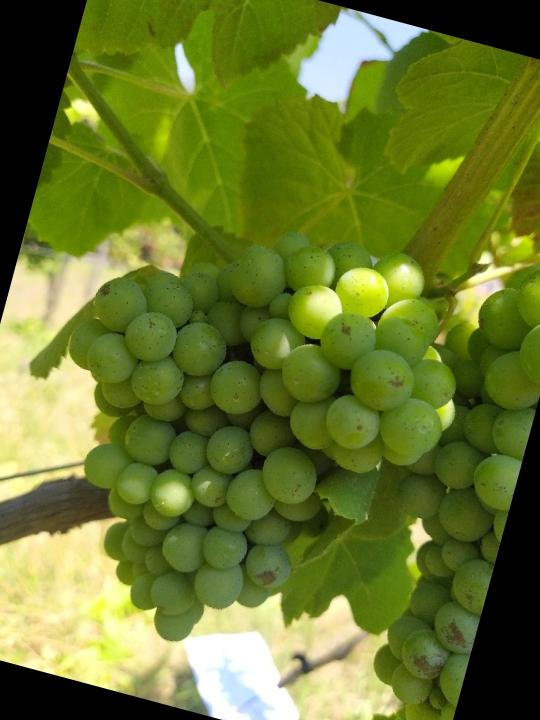grape: (4, 175, 497, 699)
